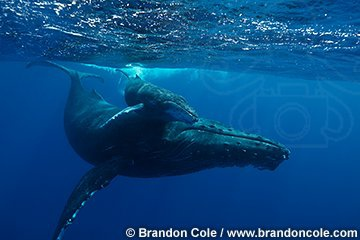humpback: (63, 44, 294, 179)
